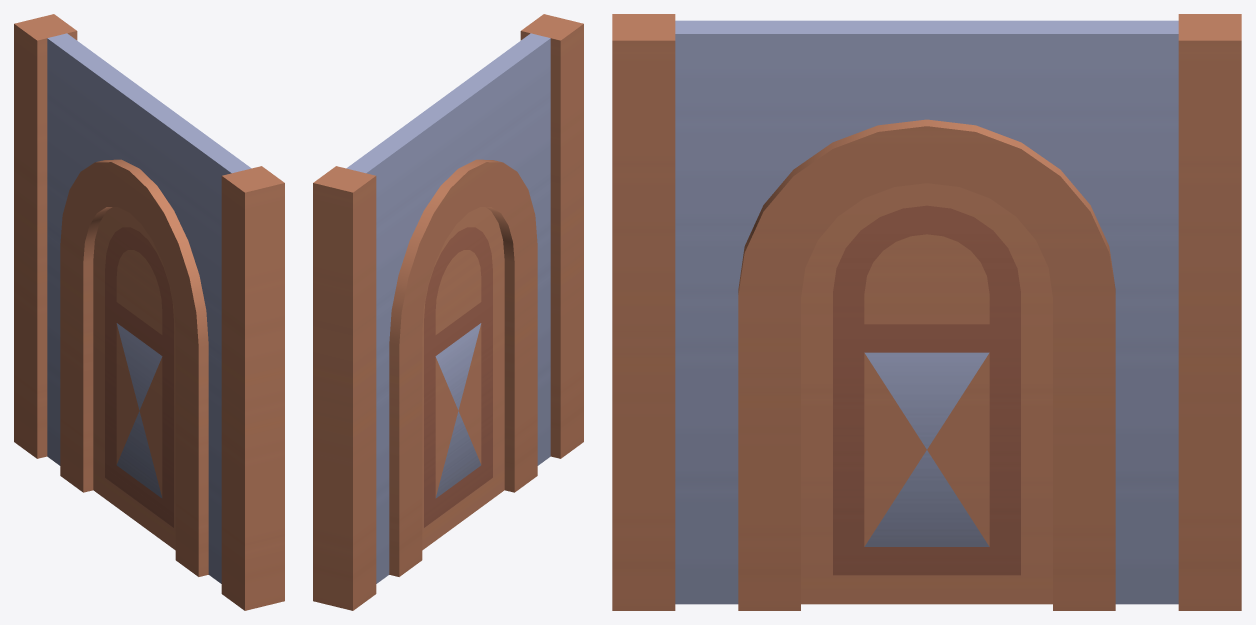
Rendered from wall-door.fbx.
3 views of the same model, side by side, from view 1: azimuth 30°, elevation 25°; view 2: azimuth 150°, elevation 25°; view 3: azimuth 270°, elevation 25° (orthographic). The views are drawn at different scales.
Visible parts, largest first — view 1: wall-door, door; view 2: wall-door, door; view 3: wall-door, door.
Boxes of the visible parts, x1,y1,x2,y2 form: wall-door: (14,14,284,610); door: (93,207,175,550); wall-door: (313,14,583,610); door: (422,207,504,550); wall-door: (612,14,1241,610); door: (801,183,1052,604).
Size of the model in its own units: 10 by 100 by 100.
Materials: 1 (1 with a texture image).
